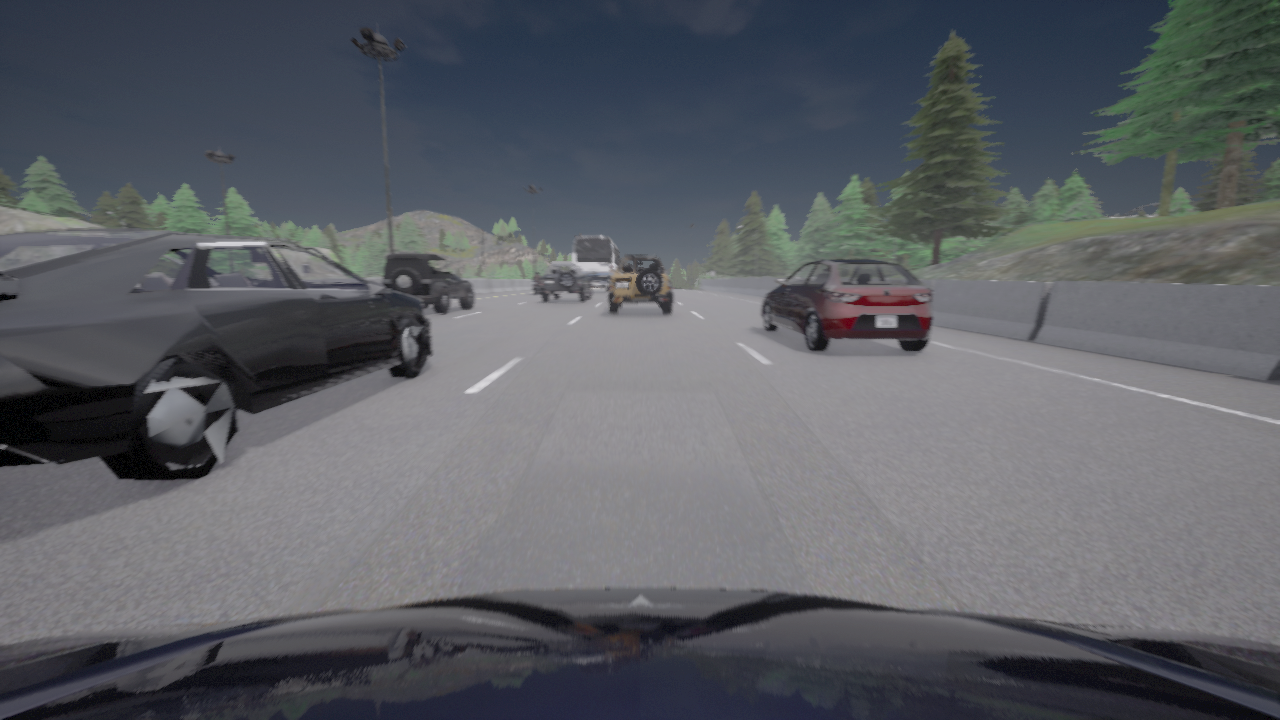cyclist: (0, 588, 1279, 719), (0, 228, 431, 480), (760, 258, 933, 352), (381, 253, 473, 313), (608, 255, 671, 314), (572, 236, 620, 292), (540, 262, 591, 301), (531, 278, 541, 294)
